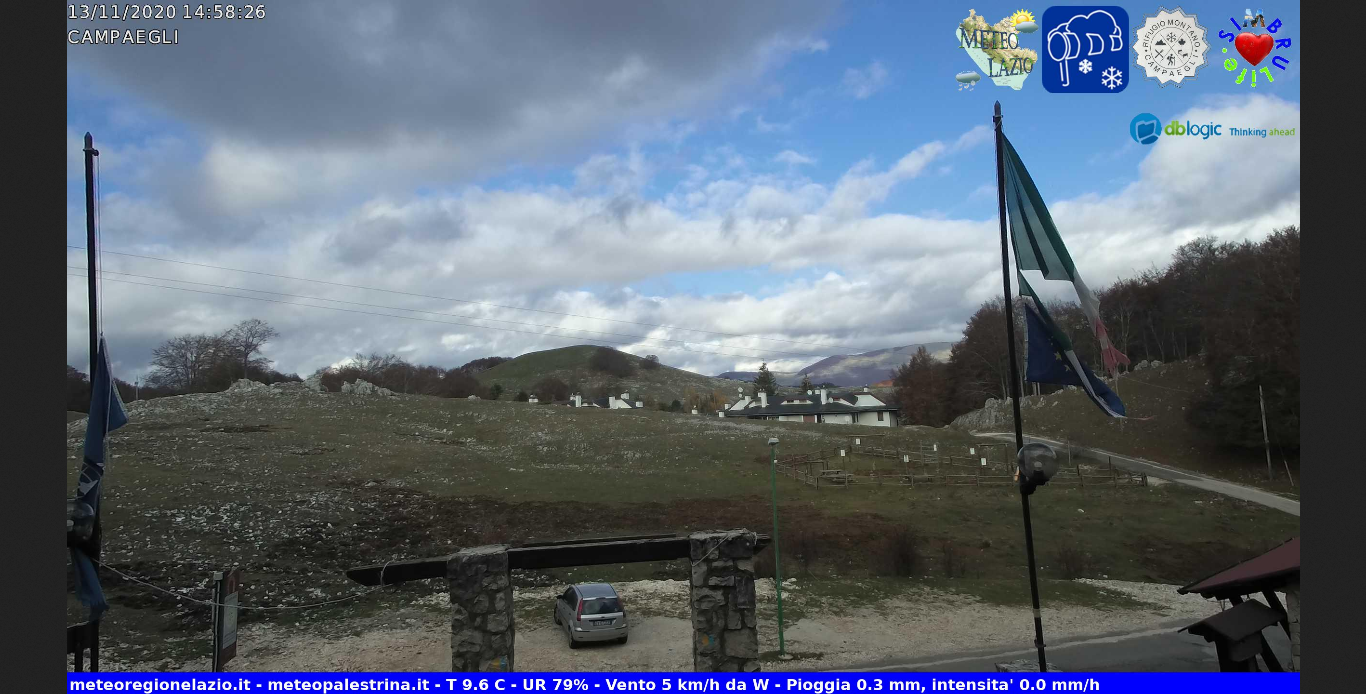maybe: (985, 106, 1140, 384), (997, 280, 1138, 434)
